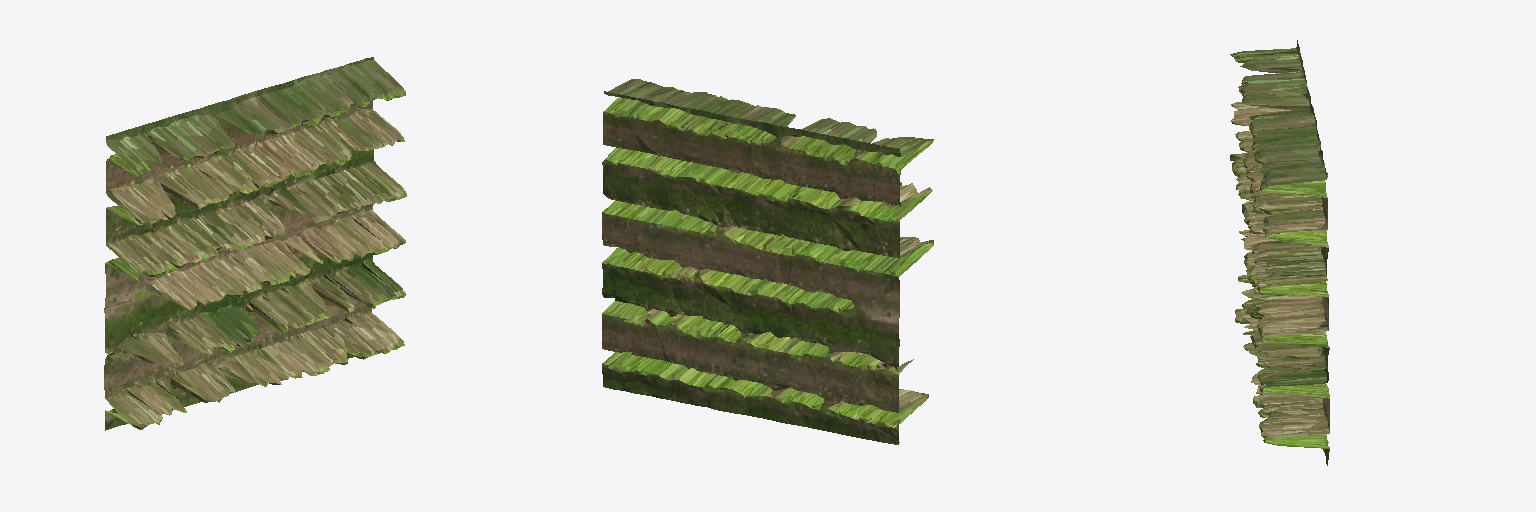
The picture shows the model from 3 angles: view 1: azimuth 30°, elevation 25°; view 2: azimuth 150°, elevation 25°; view 3: azimuth 270°, elevation 25°; orthographic projection.
Visible parts, largest first — view 1: grp1; view 2: grp1; view 3: grp1.
Part boxes in pixels (left/top/right/bottom): grp1: left=104, top=57, right=406, bottom=430; grp1: left=602, top=79, right=933, bottom=444; grp1: left=1230, top=40, right=1329, bottom=465.
Bounding box in the file's own units: 10 × 10 × 3.07.
1 materials, 1 textured.